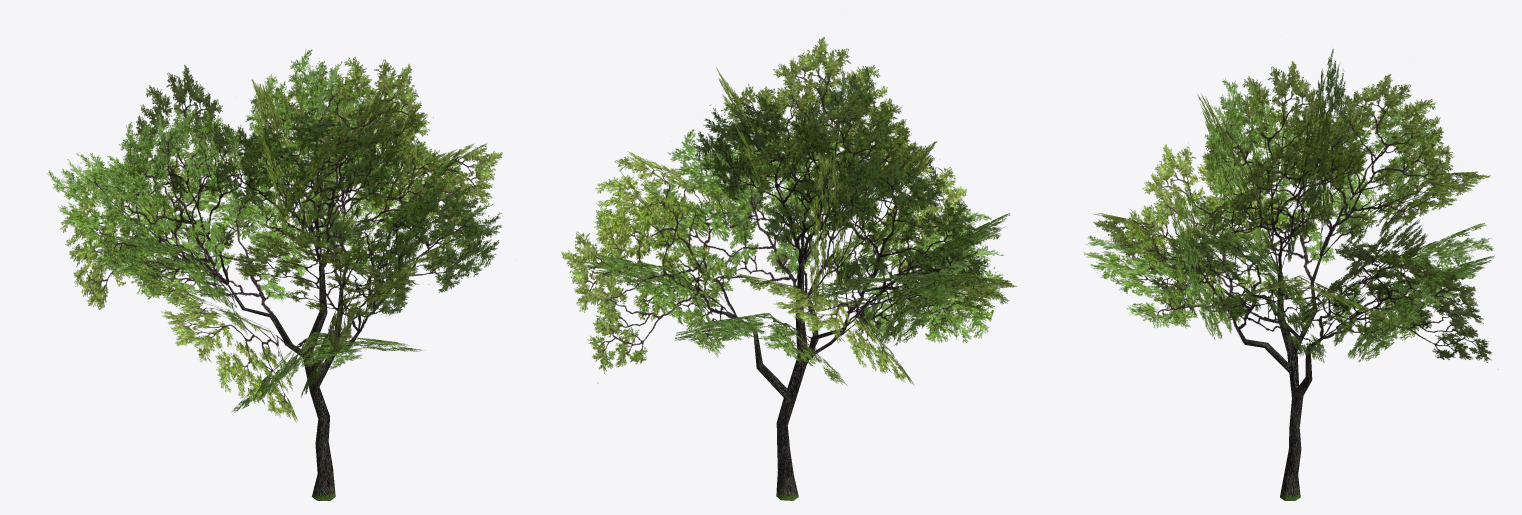
Rendered from tree_d01.glb.
3 views of the same model, side by side, from view 1: azimuth 30°, elevation 25°; view 2: azimuth 150°, elevation 25°; view 3: azimuth 270°, elevation 25° (orthographic). The views are drawn at different scales.
Visible parts, largest first — view 1: tree_d01; view 2: tree_d01; view 3: tree_d01.
Part boxes in pixels (<box>): tree_d01: <box>46,49,502,500</box>; tree_d01: <box>561,37,1016,500</box>; tree_d01: <box>1083,49,1498,500</box>.
Size of the model in its own units: 17.59 by 17.94 by 16.53.
4 materials, 4 textured.
